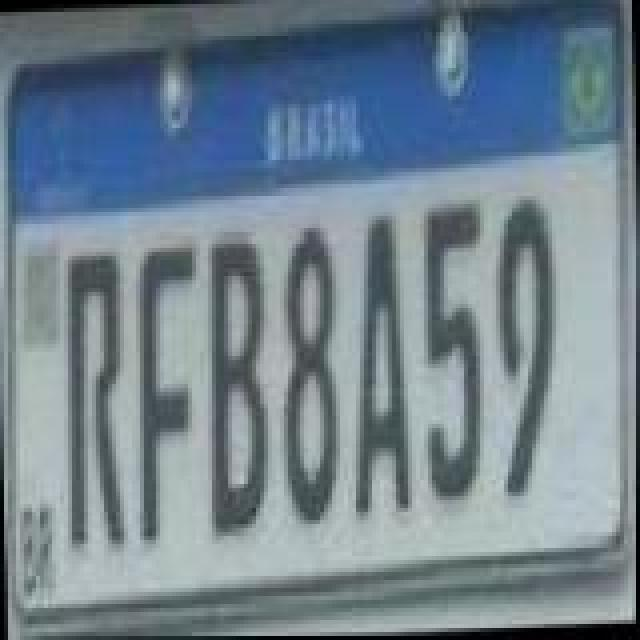5: (420, 194, 492, 506)
8: (276, 220, 348, 524)
9: (492, 194, 564, 498)
A: (344, 210, 416, 514)
B: (206, 232, 274, 536)
F: (132, 236, 204, 540)
R: (60, 250, 132, 546)
